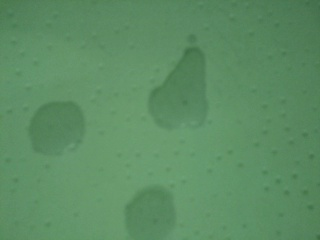Water_detected: (153, 63, 195, 123), (42, 110, 84, 160), (126, 190, 167, 238)
